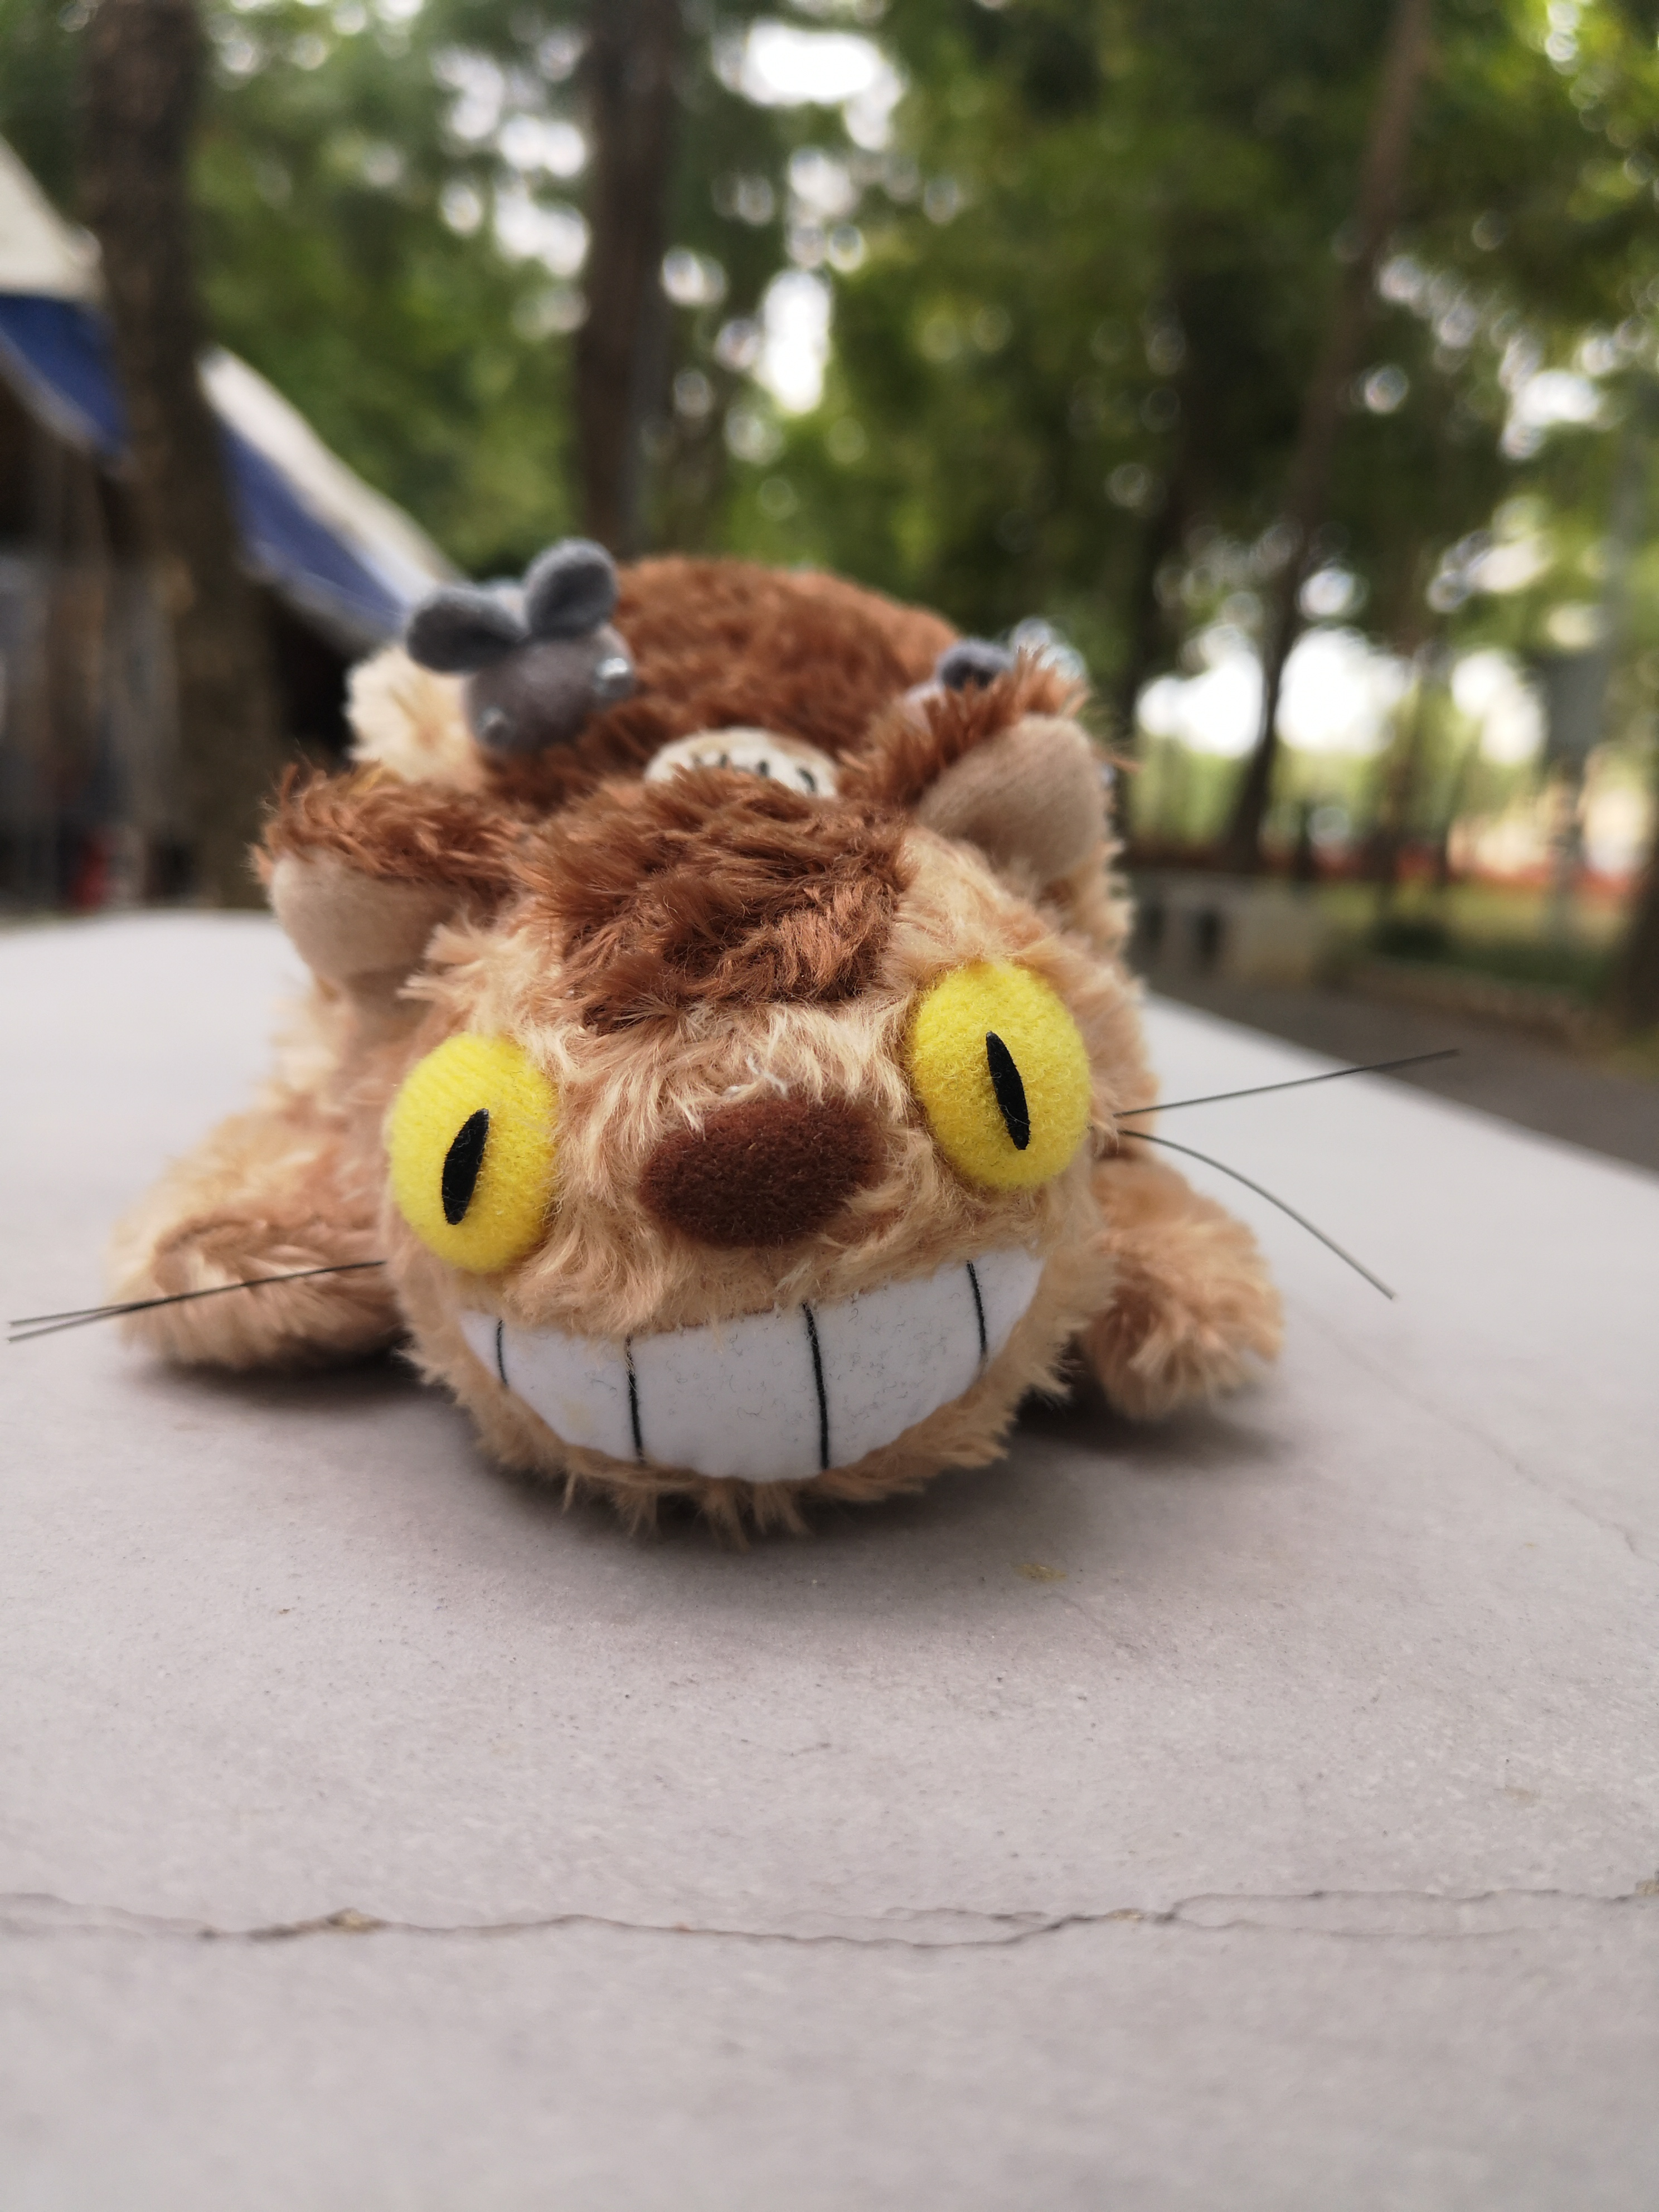nekobus: (12, 507, 1471, 1581)
